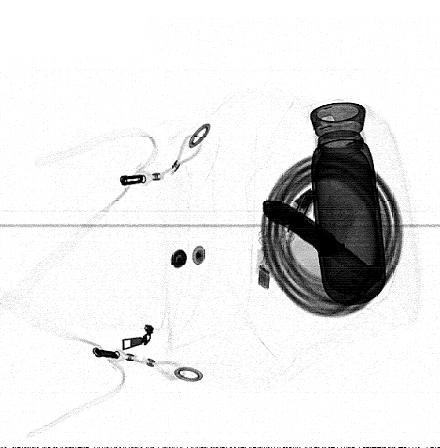Knife: (262, 200, 388, 284)
